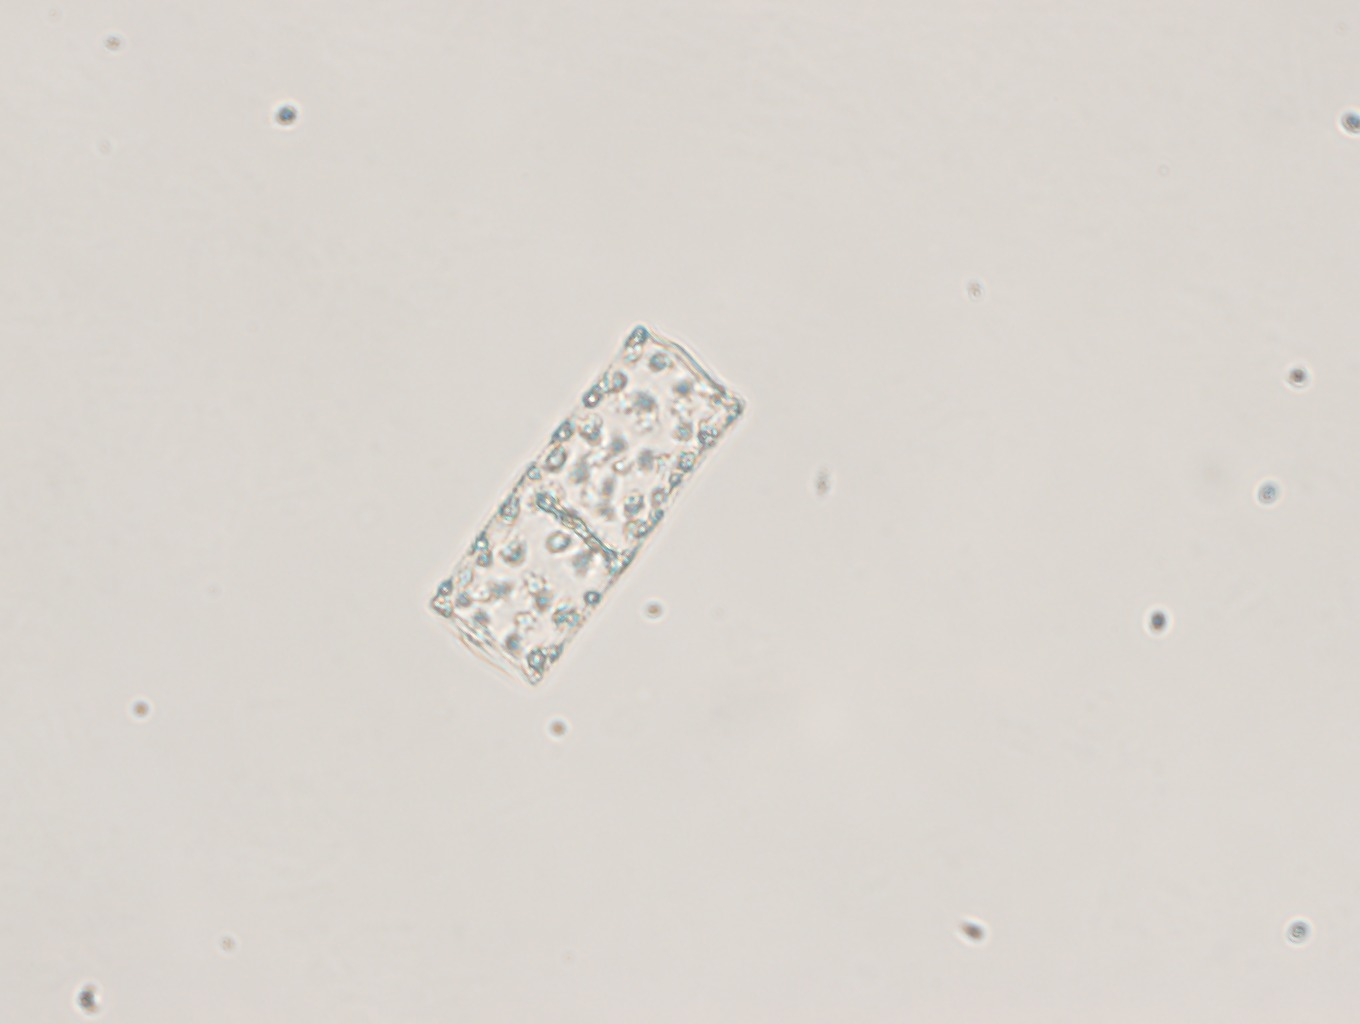guinardia flaccida: (417, 311, 751, 693)
